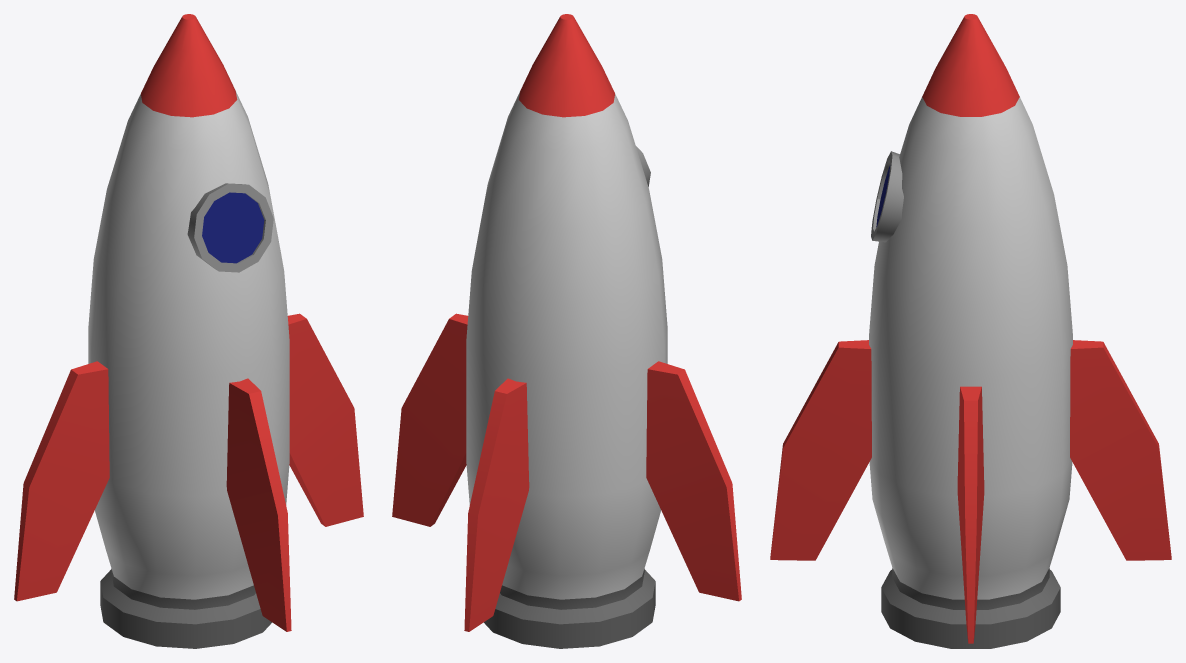
The model's file is Rocket.fbx.
3 views of the same model, side by side, from view 1: azimuth 30°, elevation 25°; view 2: azimuth 150°, elevation 25°; view 3: azimuth 270°, elevation 25° (orthographic).
Parts seen in each view (by area): view 1: Rocket; view 2: Rocket; view 3: Rocket.
Part boxes in pixels (left/top/right/bottom): Rocket: left=14, top=14, right=363, bottom=648; Rocket: left=392, top=14, right=741, bottom=648; Rocket: left=770, top=14, right=1171, bottom=648.
Size of the model in its own units: 15.38 by 25.16 by 15.38.
1 material, 1 textured.
